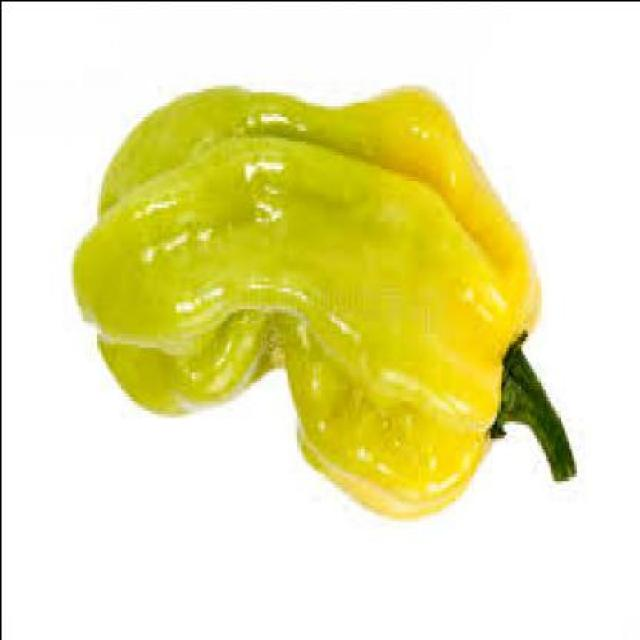BIODEGRADABLE: (75, 88, 577, 528)
